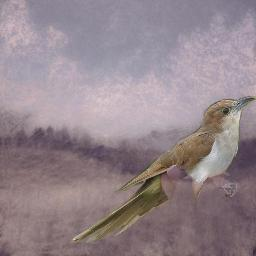Cuckoo: (71, 96, 256, 244)
